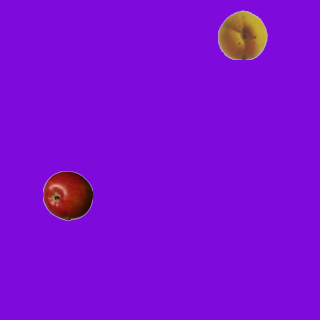Apple Braeburn: (42, 170, 92, 220)
Peach 2: (217, 9, 267, 59)
